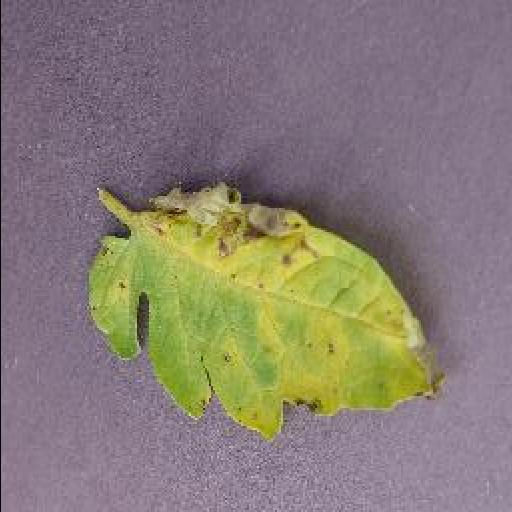disease_tomato: (86, 183, 444, 447)
